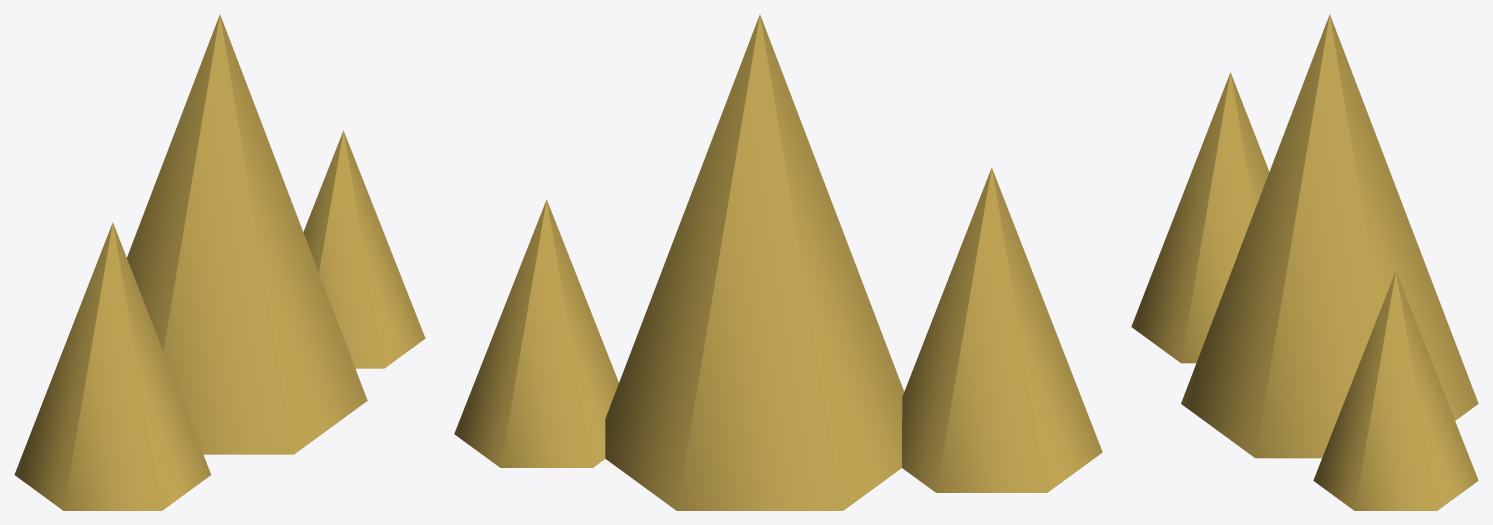
File: goldmine_accent.glb
3 views of the same model, side by side, from view 1: azimuth 30°, elevation 25°; view 2: azimuth 150°, elevation 25°; view 3: azimuth 270°, elevation 25° (orthographic). The views are drawn at different scales.
Visible parts, largest first — view 1: goldmine-accent-large-crystal, goldmine-accent-small-crystal-a, goldmine-accent-small-crystal-b; view 2: goldmine-accent-large-crystal, goldmine-accent-small-crystal-a, goldmine-accent-small-crystal-b; view 3: goldmine-accent-large-crystal, goldmine-accent-small-crystal-b, goldmine-accent-small-crystal-a.
Boxes of the visible parts, x1=… form: goldmine-accent-large-crystal: x1=127, y1=14, x2=367, y2=454; goldmine-accent-small-crystal-a: x1=14, y1=222, x2=211, y2=510; goldmine-accent-small-crystal-b: x1=303, y1=130, x2=425, y2=368; goldmine-accent-large-crystal: x1=605, y1=14, x2=904, y2=510; goldmine-accent-small-crystal-a: x1=902, y1=167, x2=1102, y2=492; goldmine-accent-small-crystal-b: x1=454, y1=200, x2=618, y2=467; goldmine-accent-large-crystal: x1=1181, y1=14, x2=1478, y2=458; goldmine-accent-small-crystal-b: x1=1313, y1=271, x2=1478, y2=510; goldmine-accent-small-crystal-a: x1=1131, y1=72, x2=1269, y2=363.
Size of the model in its own units: 0.6305 by 0.52 by 0.42.
